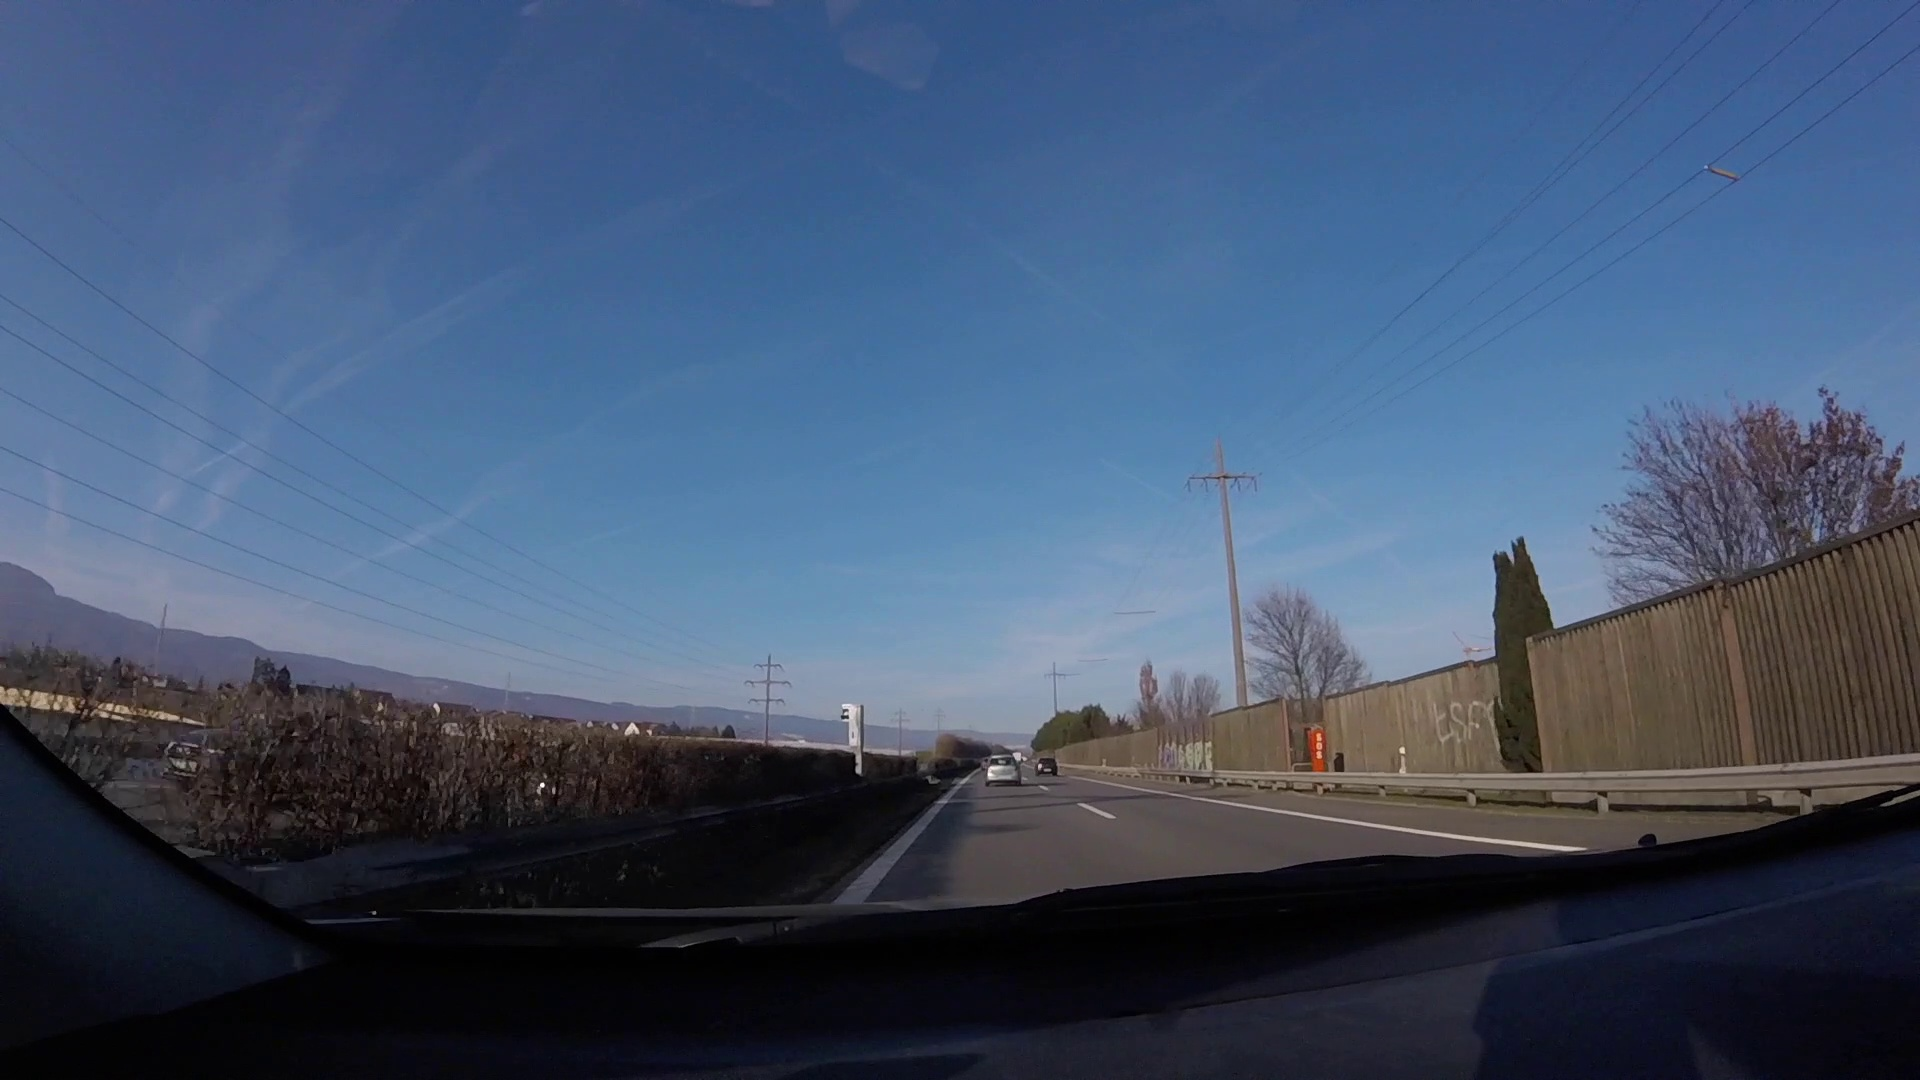radar: (837, 702, 869, 778)
